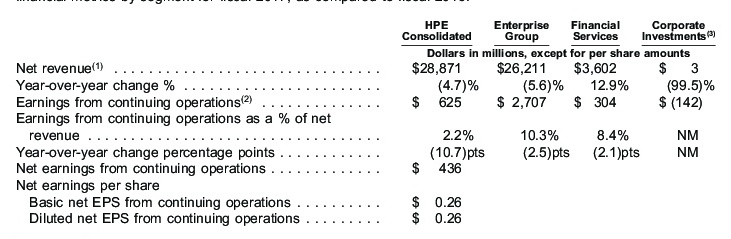table: (0, 0, 731, 239)
